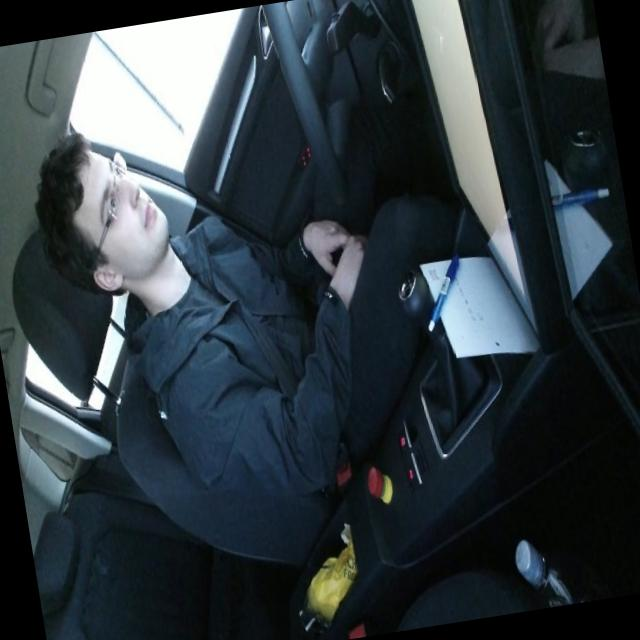pen: (416, 251, 470, 333)
